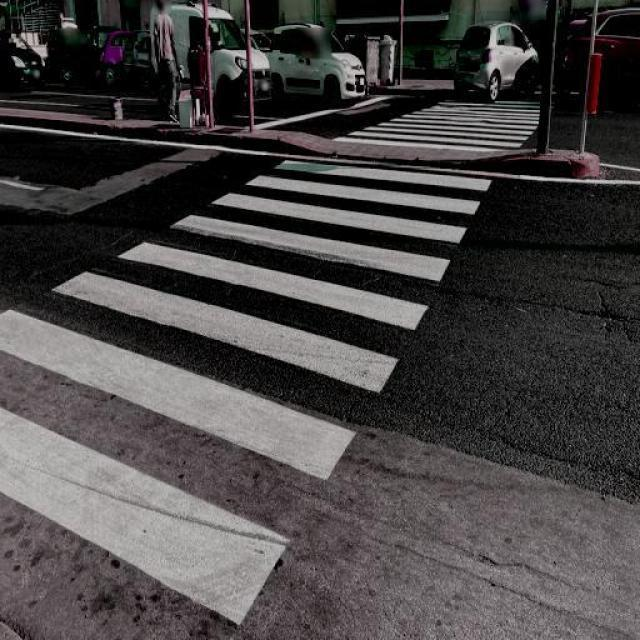crosswalk: (0, 153, 498, 634), (334, 93, 547, 152)
